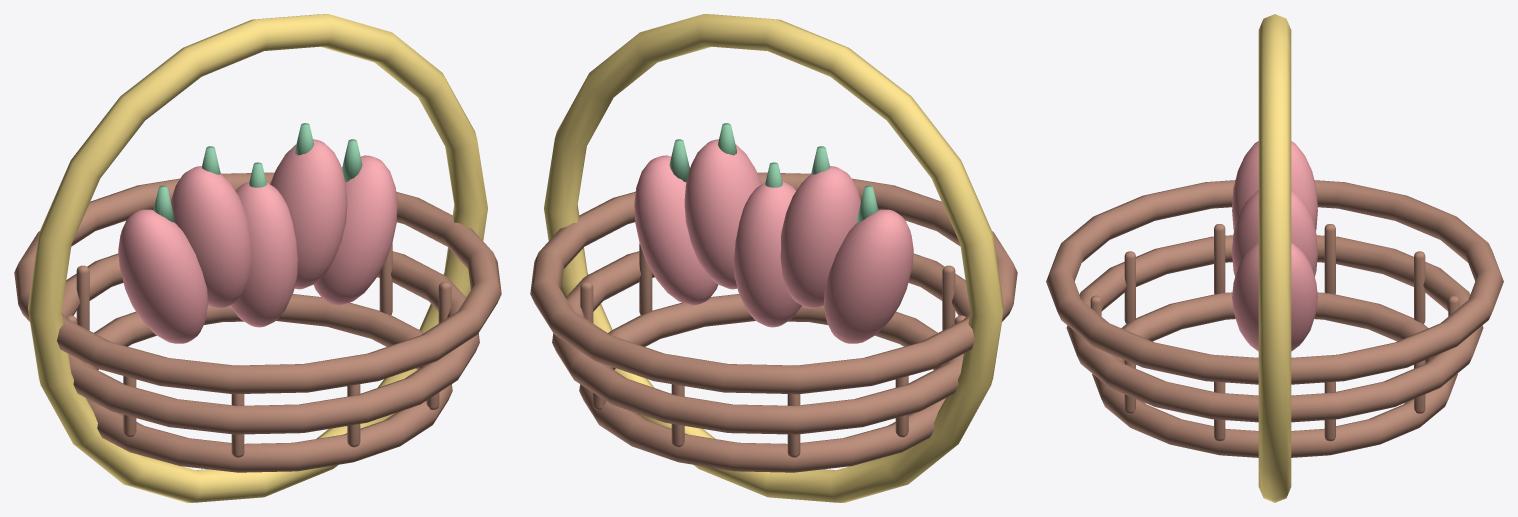
Rendered from pepper_basket.glb.
3 renders of one model, left to right at view 1: azimuth 30°, elevation 25°; view 2: azimuth 150°, elevation 25°; view 3: azimuth 270°, elevation 25°, orthographic. The views are drawn at different scales.
Visible parts, largest first — view 1: Fixed_Detail.006; view 2: Fixed_Detail.006; view 3: Fixed_Detail.006.
Boxes of the visible parts, x1,y1,x2,y2 form: Fixed_Detail.006: (14, 14, 501, 502); Fixed_Detail.006: (530, 14, 1017, 502); Fixed_Detail.006: (1046, 14, 1503, 502).
Bounding box in the file's own units: 4.82 × 4.82 × 4.48.
